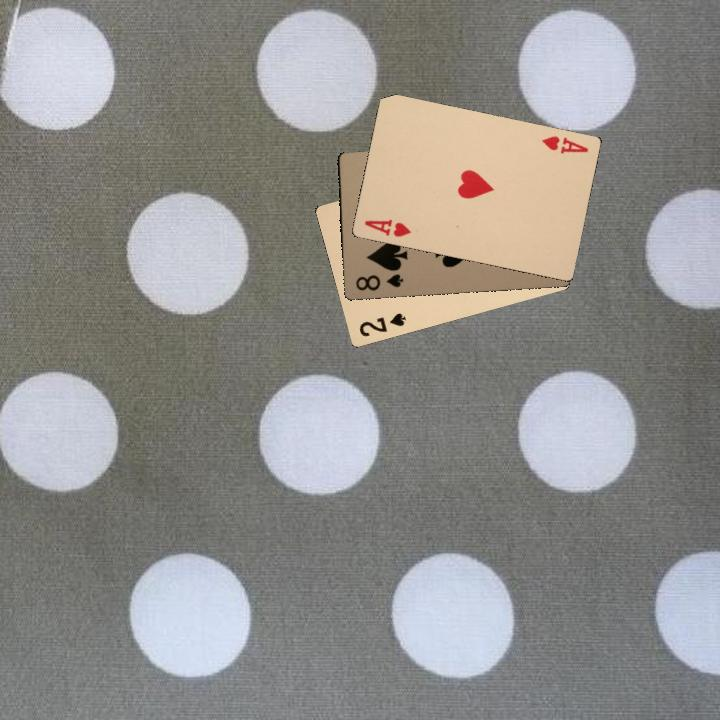2s: (355, 309, 408, 339)
8s: (352, 270, 405, 293)
Ah: (360, 215, 413, 239), (538, 132, 591, 156)
